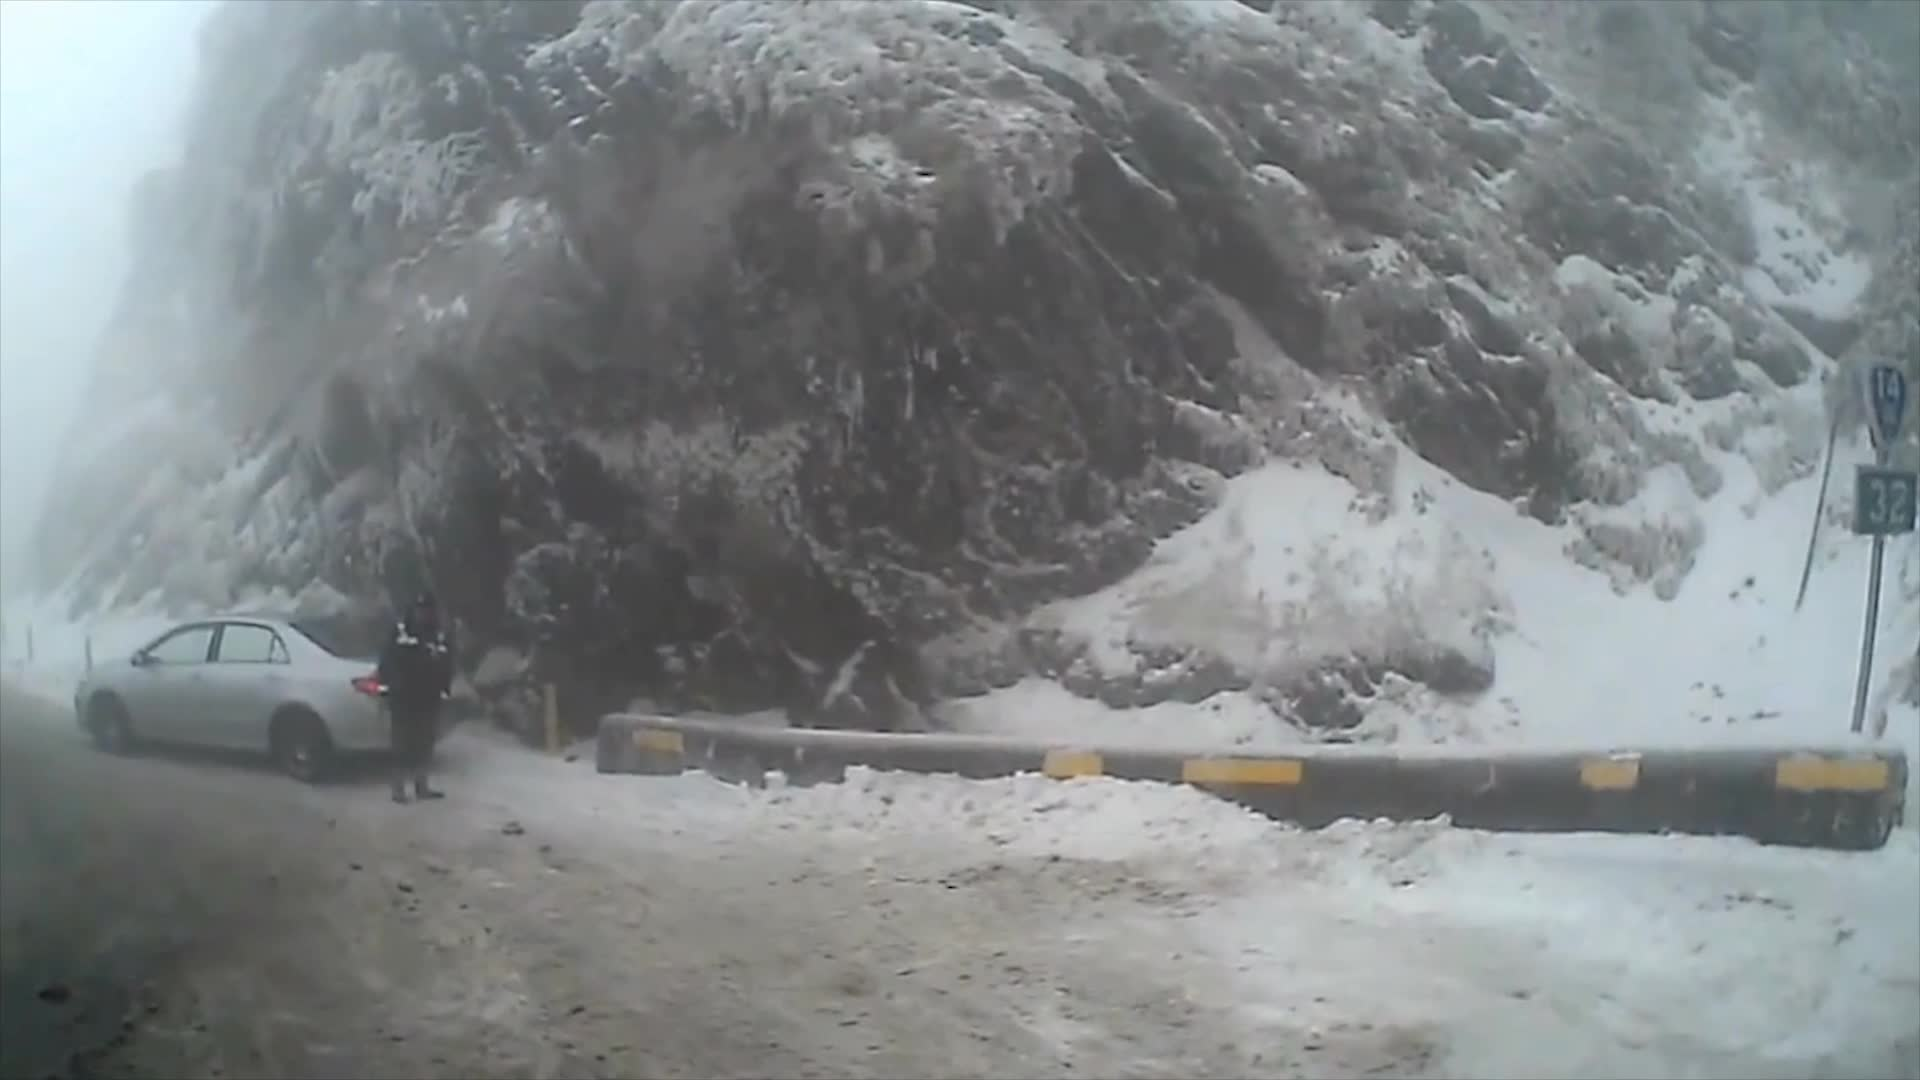pedestrian: (376, 595, 457, 804)
vehicle: (70, 609, 457, 787)
